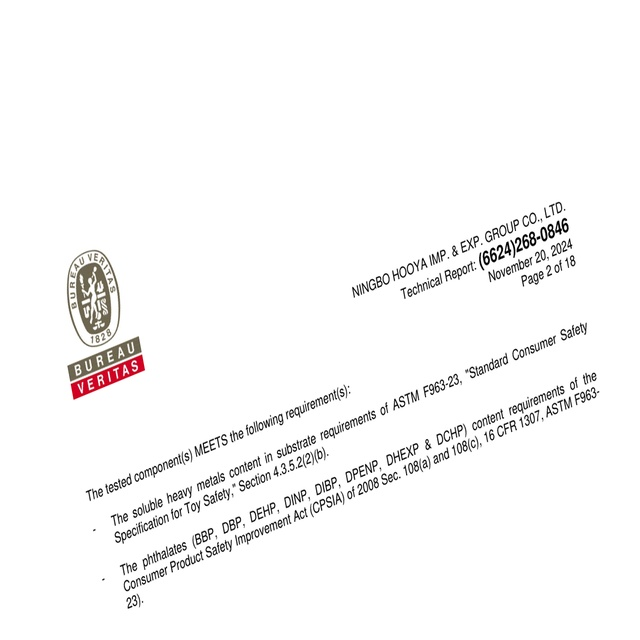bureau_veritas: (61, 244, 148, 407)
